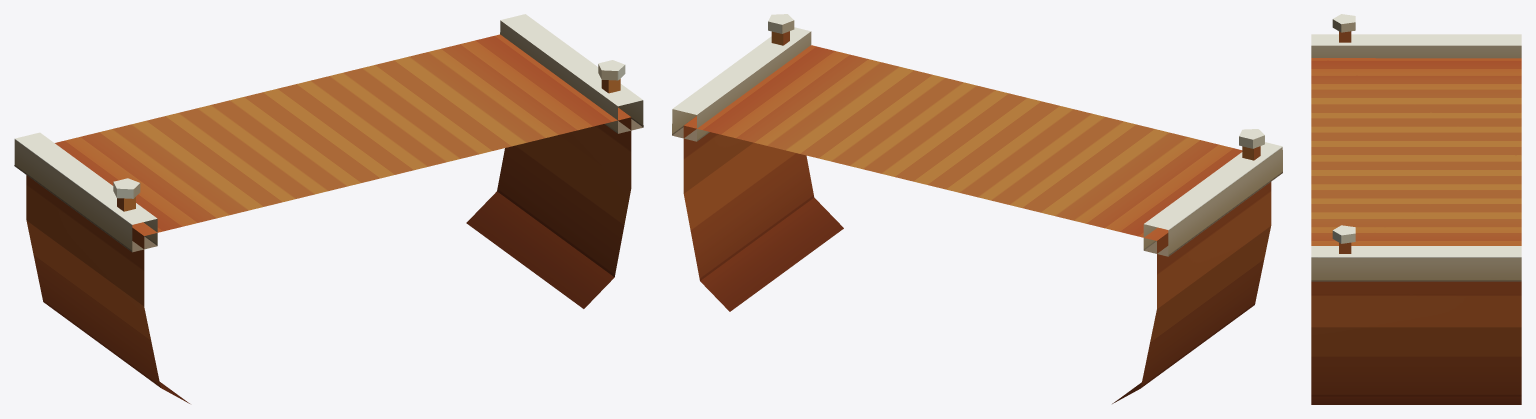
The model's file is Pirate_Ship_We_Middle_001.FBX.
3 renders of one model, left to right at view 1: azimuth 30°, elevation 25°; view 2: azimuth 150°, elevation 25°; view 3: azimuth 270°, elevation 25°, orthographic. The views are drawn at different scales.
Visible parts, largest first — view 1: Pirate_Ship_We_Middle_001; view 2: Pirate_Ship_We_Middle_001; view 3: Pirate_Ship_We_Middle_001.
Part boxes in pixels (x1,y1,x2,y2): Pirate_Ship_We_Middle_001: [14, 14, 643, 403]; Pirate_Ship_We_Middle_001: [672, 14, 1282, 403]; Pirate_Ship_We_Middle_001: [1311, 14, 1521, 404].
Bounding box in the file's own units: 21.22 × 8.65 × 8.47.
